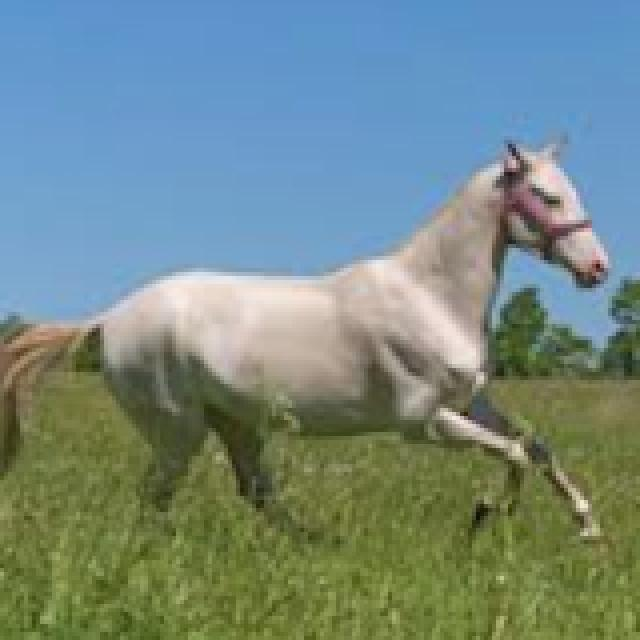Horse: (0, 128, 620, 556)
